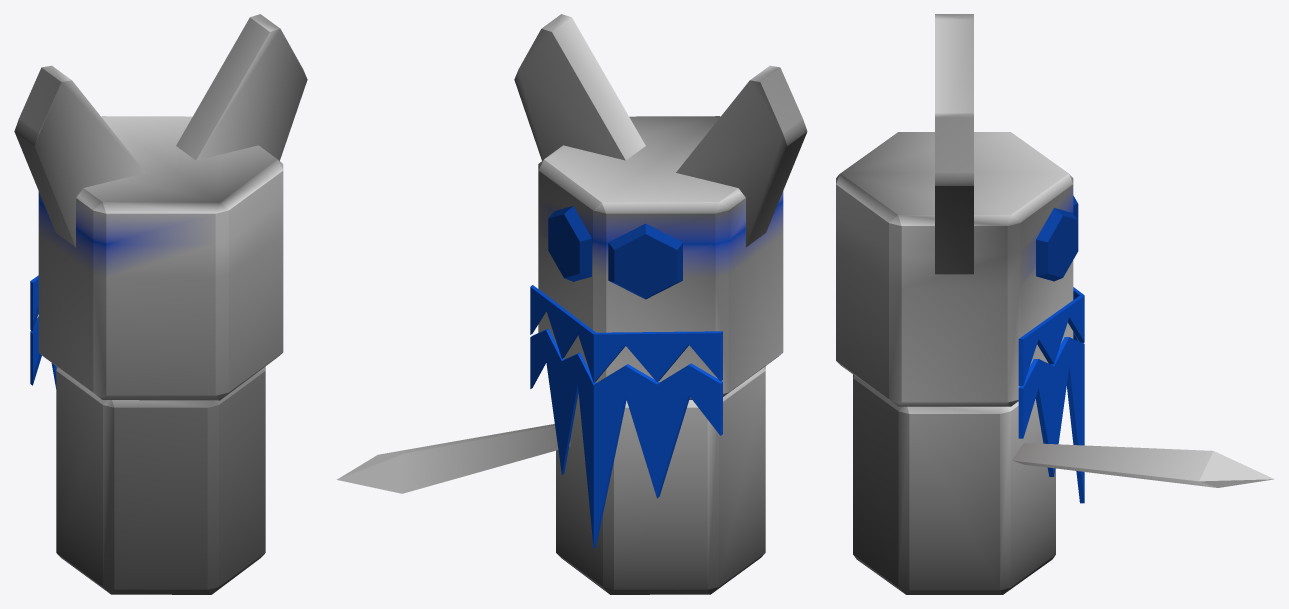
Rendered from Builder_Blue.FBX.
3 renders of one model, left to right at view 1: azimuth 30°, elevation 25°; view 2: azimuth 150°, elevation 25°; view 3: azimuth 270°, elevation 25°, orthographic. The views are drawn at different scales.
Visible parts, largest first — view 1: Builder_Blue; view 2: Builder_Blue; view 3: Builder_Blue.
Boxes of the visible parts, box(x1,y1,x2,y2) form: Builder_Blue: box(14, 14, 307, 594); Builder_Blue: box(337, 14, 807, 594); Builder_Blue: box(836, 14, 1274, 594).
Size of the model in its own units: 156 by 258 by 208.
